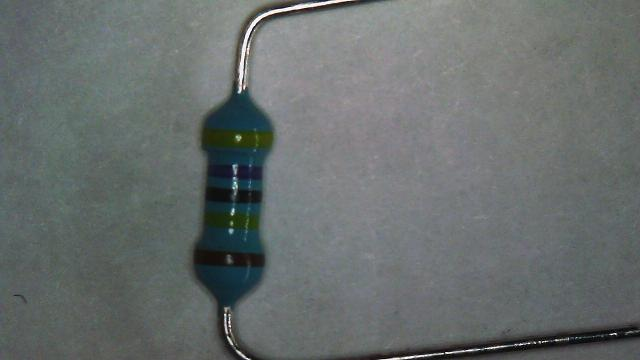black: (205, 186, 261, 204)
brown: (194, 249, 264, 267)
resistor: (182, 84, 283, 308)
violet: (208, 164, 262, 180)
yellow: (201, 127, 272, 148), (203, 211, 260, 230)
